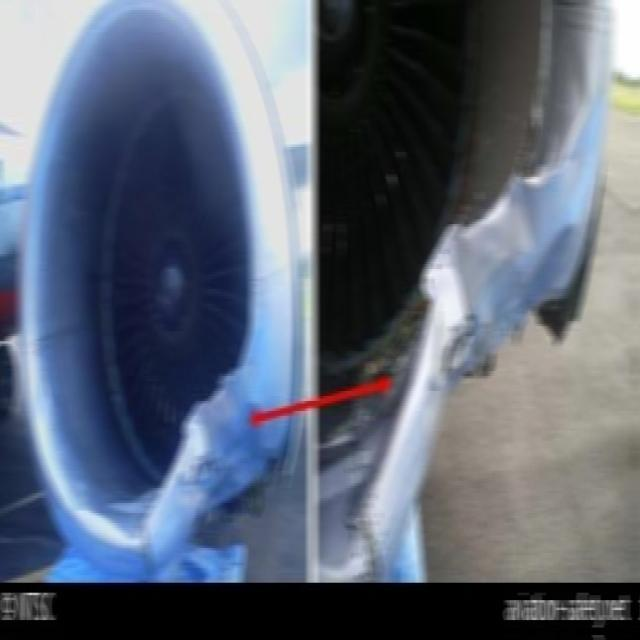dent: (438, 230, 480, 332), (507, 188, 541, 255)
